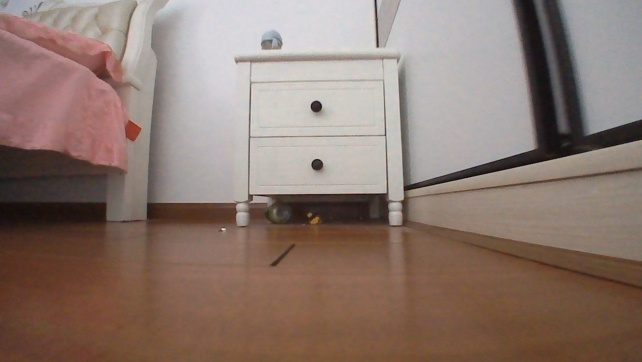bed1: (0, 0, 170, 223)
cabinet: (229, 44, 409, 230)
